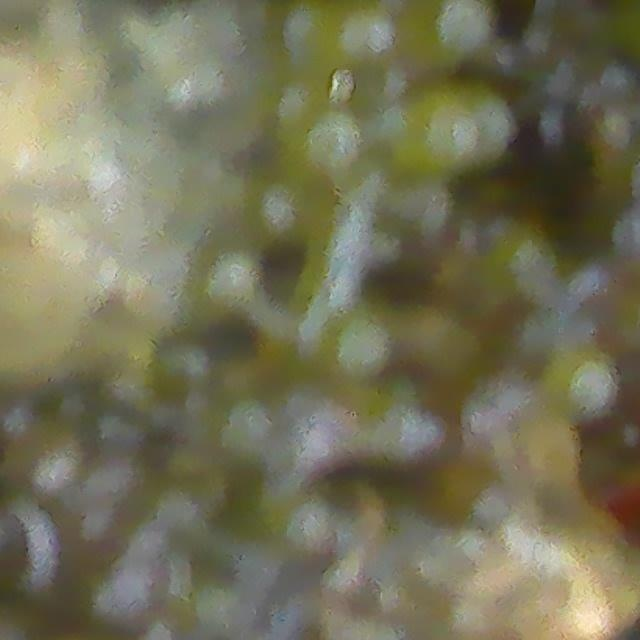SeaGrape: (545, 346, 618, 422)
